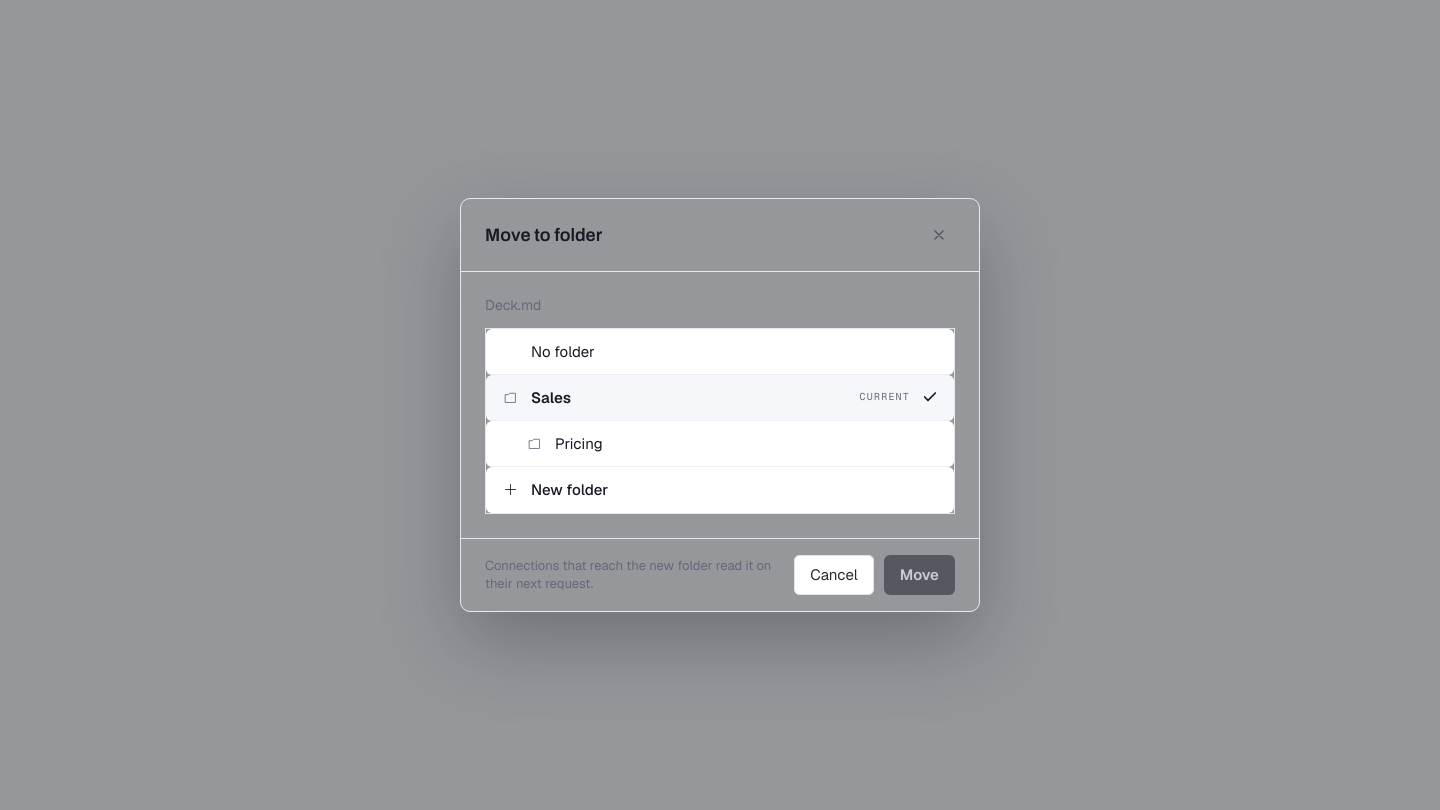
Test: MoveArtifactDialog › keeps Move disabled until a different project is picked
The image size is (1440, 810).
expect the button "Move" is disabled: met, box [884, 555, 955, 595]
Step 1. Click the radio button labelled "Pricing" → {"x": 579, "y": 443}, box [486, 421, 954, 467]
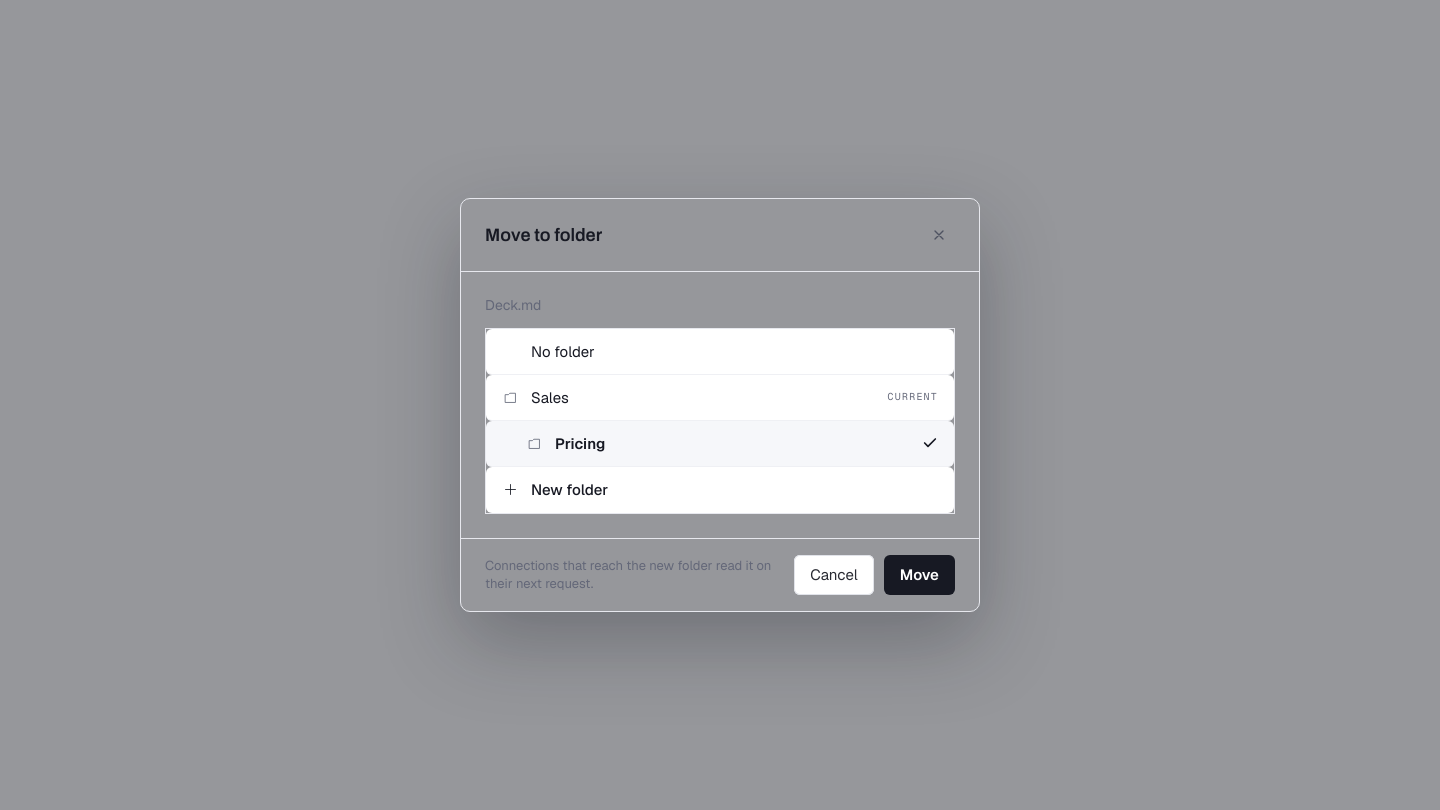
expect the button "Move" is enabled: met, box [884, 555, 955, 595]
Step 2. Click the radio button labelled "Sales current" → {"x": 550, "y": 397}, box [486, 375, 954, 421]
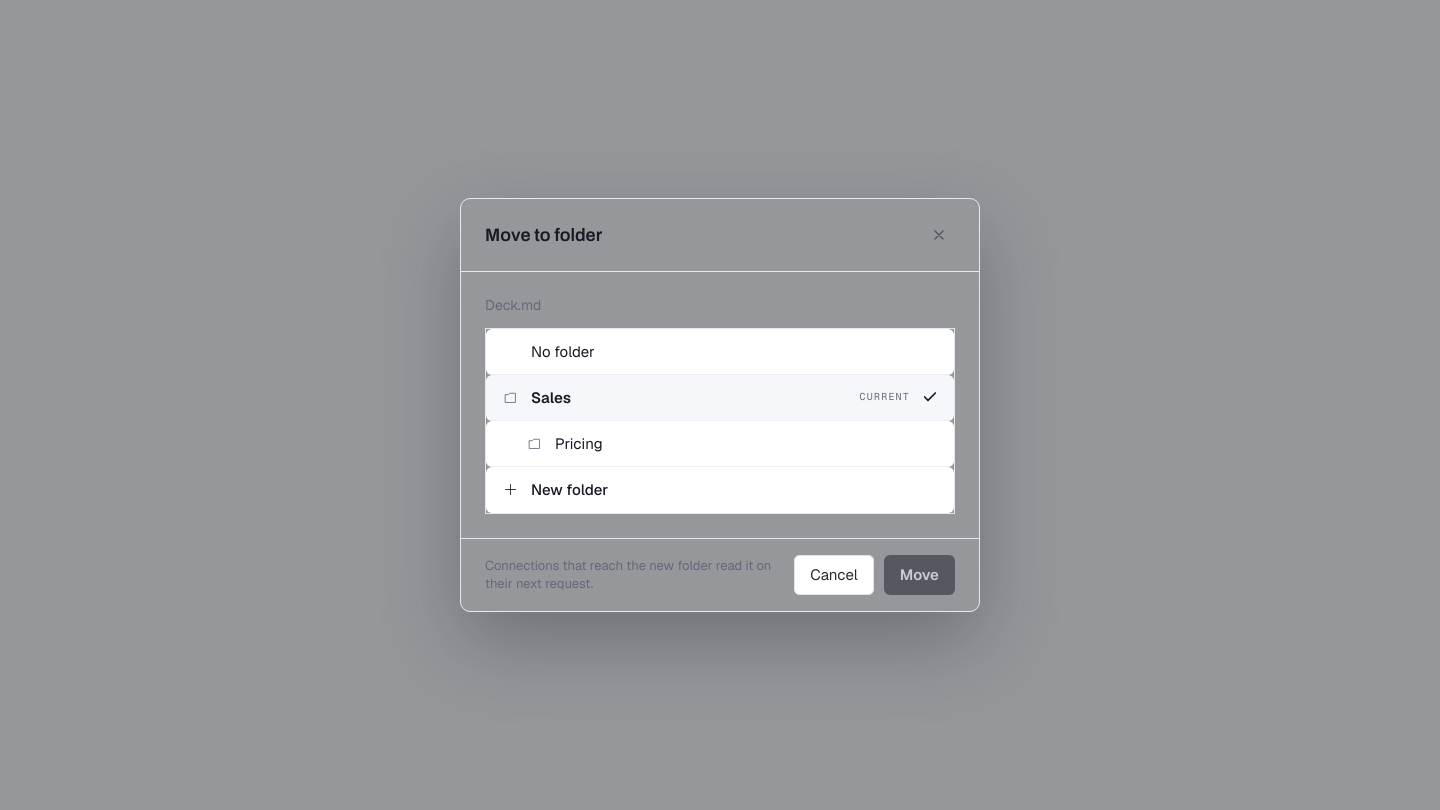
expect the button "Move" is disabled: met, box [884, 555, 955, 595]
